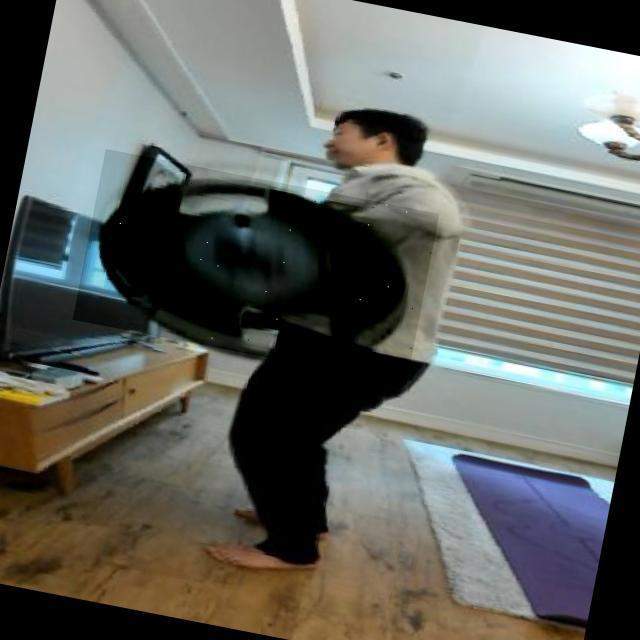barbell: (74, 150, 441, 386)
